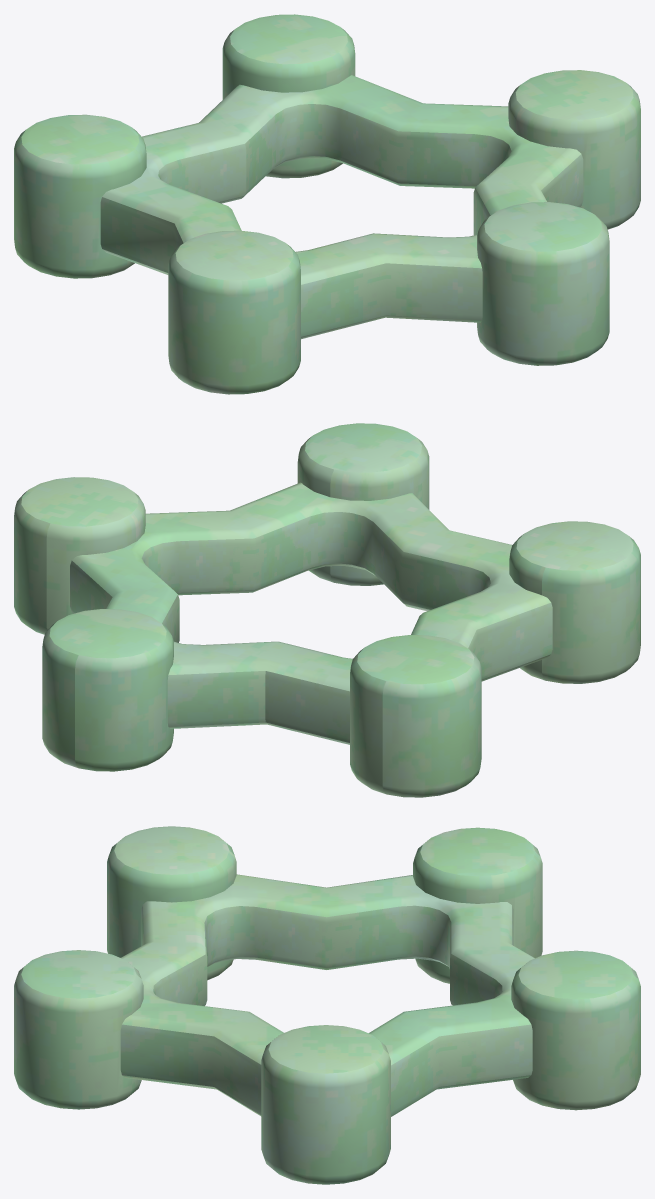
File: Etoile.fbx
The picture shows the model from 3 angles, top to bottom: view 1: azimuth 30°, elevation 25°; view 2: azimuth 150°, elevation 25°; view 3: azimuth 270°, elevation 25°; orthographic projection. The views are drawn at different scales.
Parts seen in each view (by area): view 1: Etoile, Cylindre_3, Cylindre_2, Cylindre_4, Cylindre_1, Cylindre_5; view 2: Etoile, Cylindre_4, Cylindre_5, Cylindre_3, Cylindre_1, Cylindre_2; view 3: Etoile, Cylindre_1, Cylindre_5, Cylindre_2, Cylindre_3, Cylindre_4.
Boxes of the visible parts, left/top/right/bottom form: Etoile: left=100, top=75, right=583, bottom=339; Cylindre_3: left=168, top=230, right=300, bottom=394; Cylindre_2: left=477, top=202, right=609, bottom=365; Cylindre_4: left=14, top=114, right=146, bottom=278; Cylindre_1: left=508, top=70, right=640, bottom=229; Cylindre_5: left=222, top=14, right=355, bottom=178; Etoile: left=70, top=482, right=552, bottom=744; Cylindre_4: left=350, top=635, right=481, bottom=797; Cylindre_5: left=42, top=609, right=173, bottom=771; Cylindre_3: left=509, top=521, right=640, bottom=683; Cylindre_1: left=14, top=477, right=145, bottom=634; Cylindre_2: left=297, top=423, right=429, bottom=585; Etoile: left=120, top=874, right=534, bottom=1116; Cylindre_1: left=261, top=1025, right=390, bottom=1184; Cylindre_5: left=511, top=950, right=640, bottom=1110; Cylindre_2: left=14, top=950, right=143, bottom=1109; Cylindre_3: left=107, top=826, right=236, bottom=980; Cylindre_4: left=413, top=827, right=542, bottom=983.
Size of the model in its own units: 3773 by 794 by 3940.
